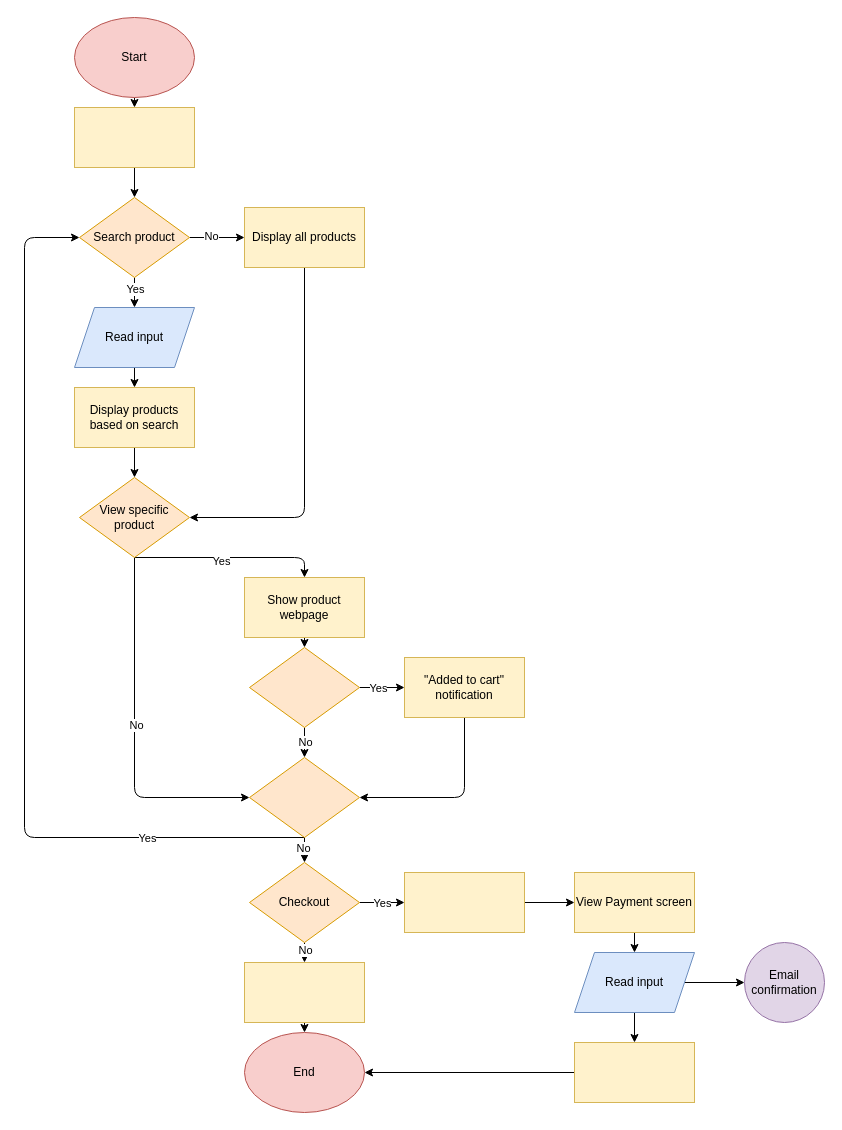
The diagram is 842 pixels wide and 1130 high, and some of its shapes have lost their labels. The shapes that lost their labels are listed below. From the top down, each one's box as (x1, y1, x2, y2) in pixels, then its label:
(74, 106, 194, 168): User enters w ebsite
(248, 646, 360, 728): Add to cart
(248, 756, 360, 838): Continue shopping
(404, 872, 524, 932): View Cart screen
(244, 962, 364, 1022): Leave website
(574, 1042, 694, 1102): Order Confirmation screen
